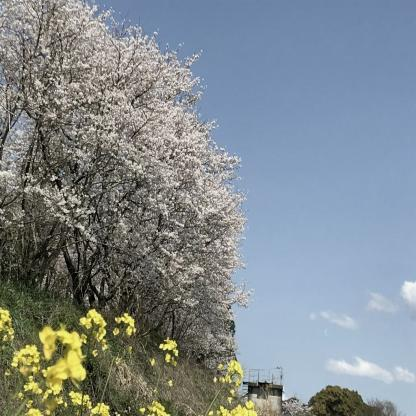Someiyoshino: (3, 7, 246, 359)
